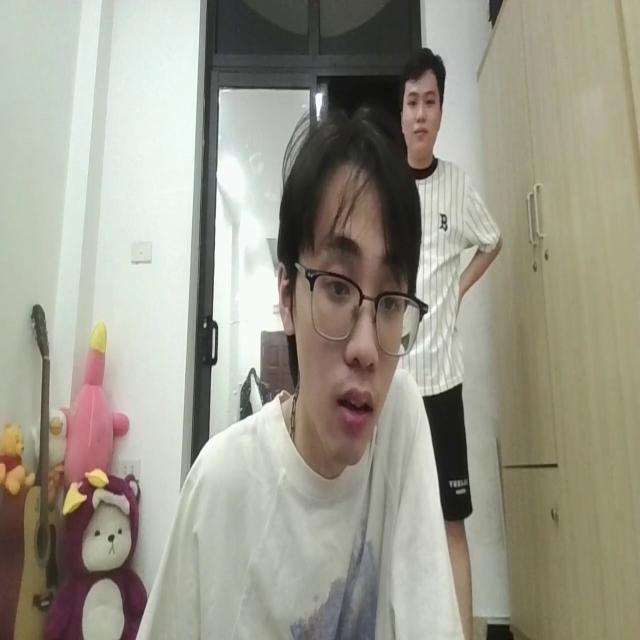extra_person: (396, 47, 495, 389)
student: (131, 89, 463, 640)
